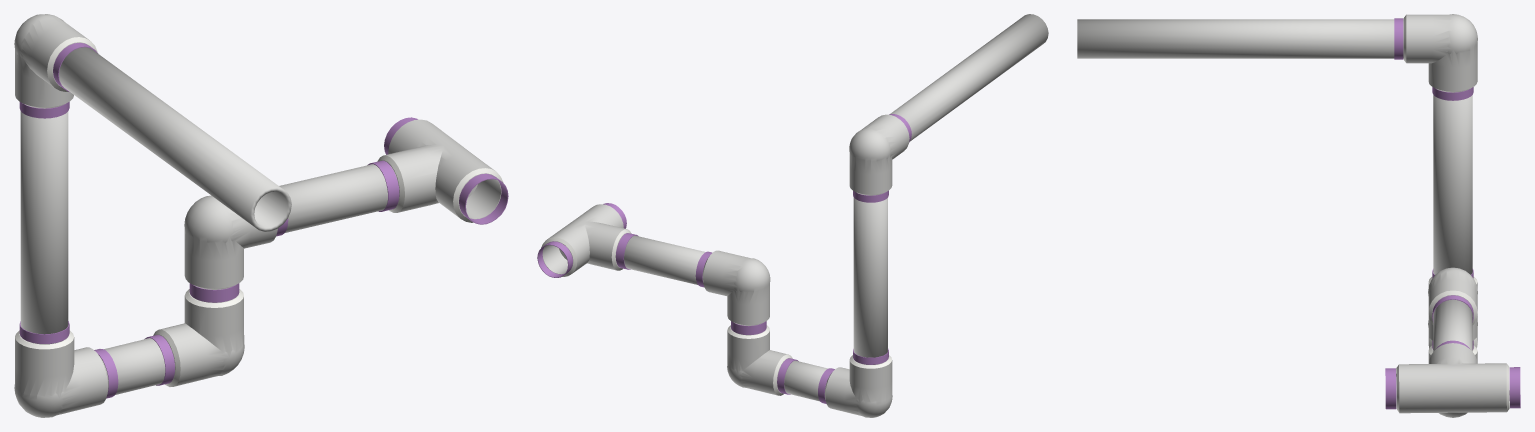
File: pipes_hvac__dehumidifier__0972e0cf__r4t.glb
The picture shows the model from 3 angles, left to right: view 1: azimuth 30°, elevation 25°; view 2: azimuth 150°, elevation 25°; view 3: azimuth 270°, elevation 25°; orthographic projection. The views are drawn at different scales.
Visible parts, largest first — view 1: pipe_hvac_condensate_dehum_drain, fit_wye_pipe_hvac_condensate_dehum_drain; view 2: pipe_hvac_condensate_dehum_drain, fit_wye_pipe_hvac_condensate_dehum_drain; view 3: pipe_hvac_condensate_dehum_drain, fit_wye_pipe_hvac_condensate_dehum_drain.
Boxes of the visible parts, x1,y1,x2,y2 form: pipe_hvac_condensate_dehum_drain: [14, 14, 399, 417]; fit_wye_pipe_hvac_condensate_dehum_drain: [367, 117, 508, 224]; pipe_hvac_condensate_dehum_drain: [615, 14, 1048, 417]; fit_wye_pipe_hvac_condensate_dehum_drain: [537, 203, 638, 277]; pipe_hvac_condensate_dehum_drain: [1077, 14, 1477, 417]; fit_wye_pipe_hvac_condensate_dehum_drain: [1385, 340, 1520, 413].
Size of the model in its own units: 0.2935 by 0.2466 by 0.2997.
